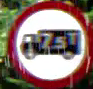Heavy Vehicles: (7, 1, 92, 85)
